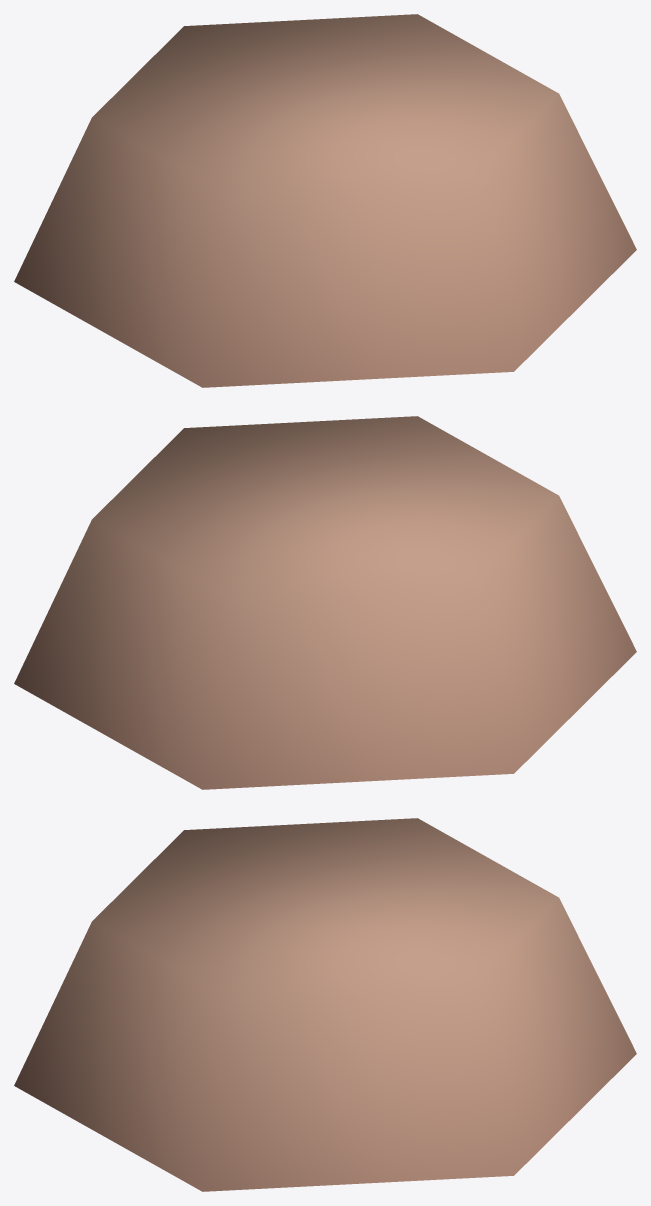
Rendered from (%no-merge) 6_0.glb.
3 views of the same model, one above another, from view 1: azimuth 30°, elevation 25°; view 2: azimuth 150°, elevation 25°; view 3: azimuth 270°, elevation 25° (orthographic).
Parts seen in each view (by area): view 1: (%no-merge) 6; view 2: (%no-merge) 6; view 3: (%no-merge) 6.
Part boxes in pixels (x1,y1,x2,y2): (%no-merge) 6: [14, 14, 636, 387]; (%no-merge) 6: [14, 416, 636, 789]; (%no-merge) 6: [14, 818, 636, 1191].
Bounding box in the file's own units: 0.0653 × 0.02 × 0.0705.
